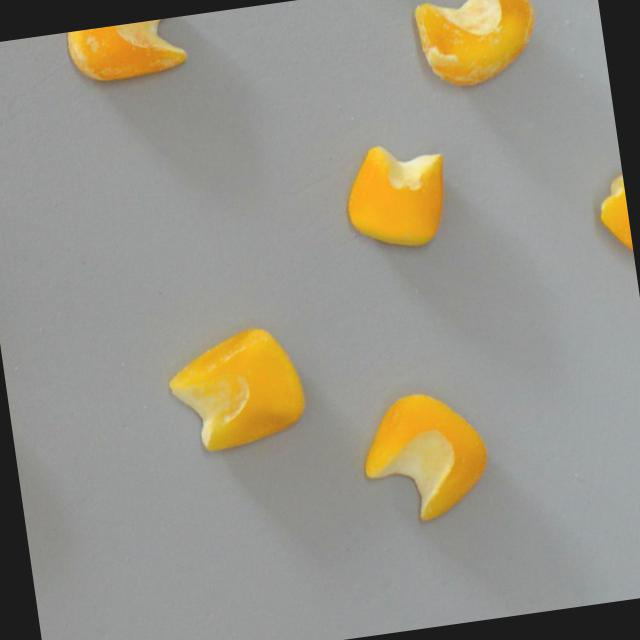no_canjicado: (164, 319, 313, 458), (356, 385, 496, 528), (340, 135, 458, 254), (595, 170, 635, 265)
pelicula: (412, 0, 545, 93), (67, 16, 192, 88)
